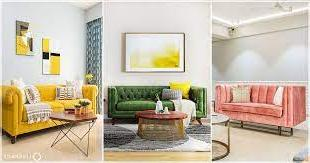sofa: (0, 83, 100, 145), (214, 84, 308, 136), (107, 84, 209, 125)
table: (44, 112, 97, 151), (131, 111, 184, 141), (212, 114, 232, 160)
